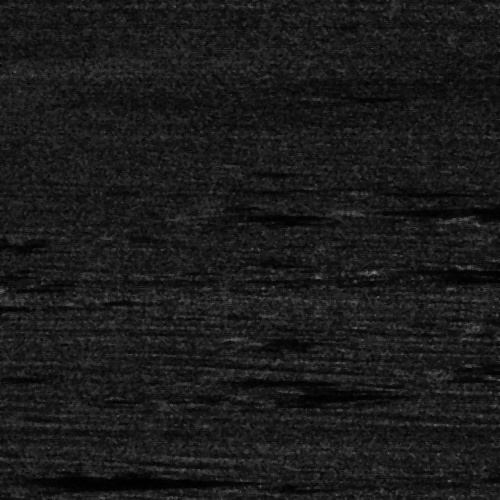object: (439, 213, 500, 224), (233, 386, 264, 405), (439, 260, 500, 269), (347, 205, 400, 212), (337, 187, 378, 194), (189, 211, 210, 220), (477, 254, 500, 259), (0, 482, 4, 485)
shadow: (249, 386, 378, 405), (374, 205, 500, 212), (200, 211, 276, 220), (0, 303, 91, 310), (358, 187, 442, 194), (0, 482, 139, 485), (379, 267, 500, 270), (471, 213, 500, 224), (471, 260, 500, 269), (206, 380, 307, 381)
